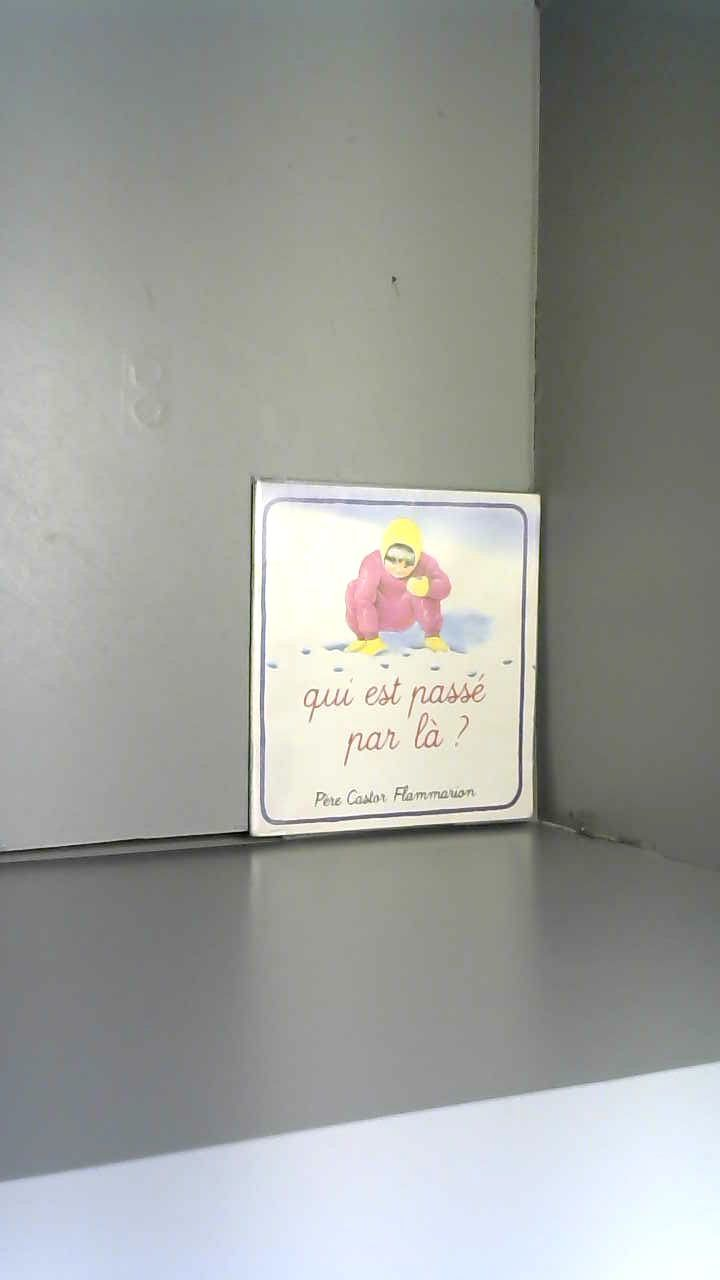book: (237, 469, 550, 859)
